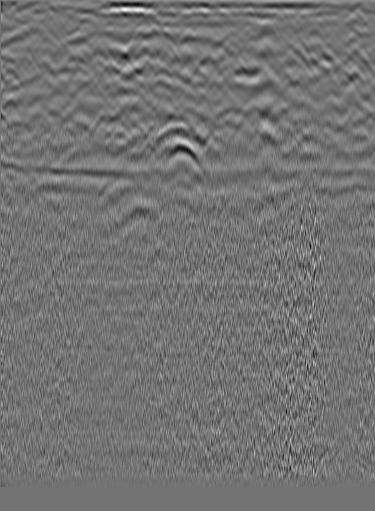가스: (0, 151, 374, 184)
